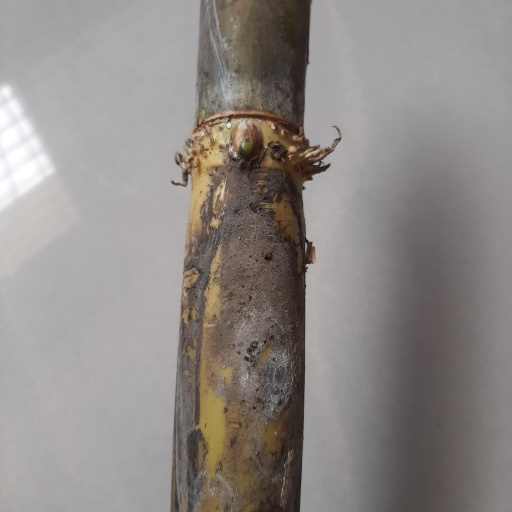Bud: (225, 120, 263, 164)
